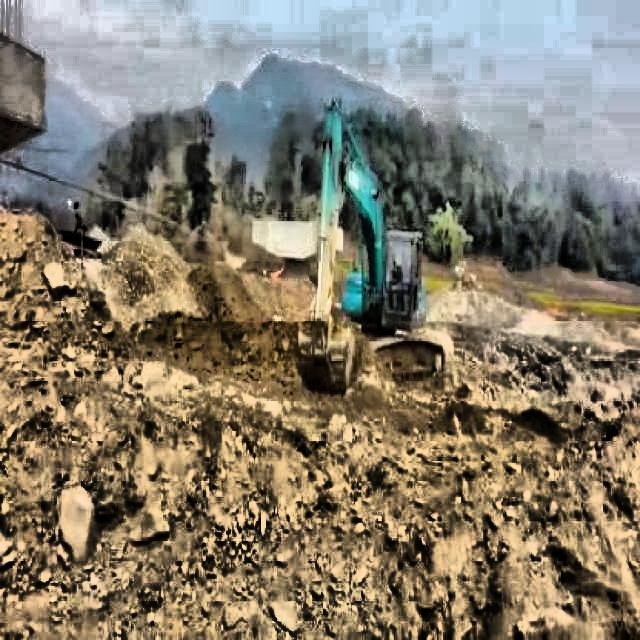excavator: (296, 90, 444, 398)
